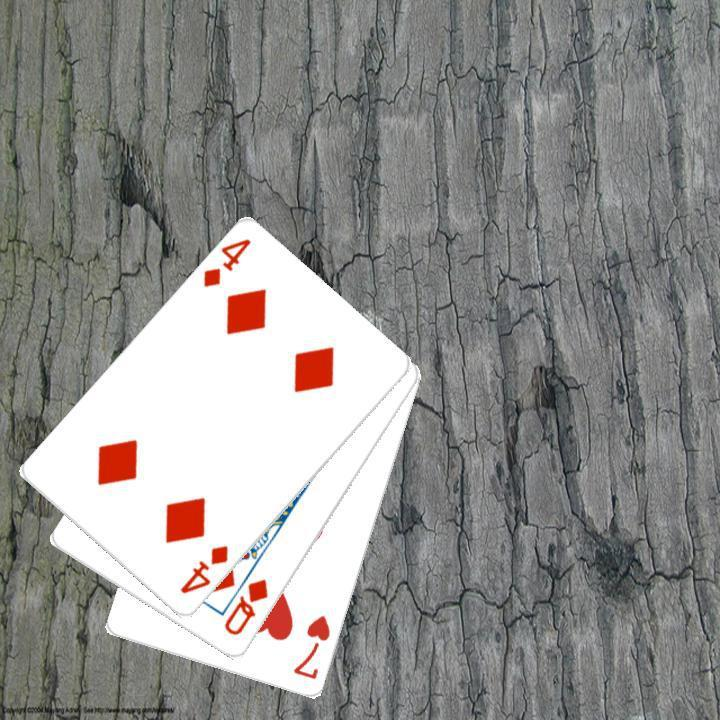4: (175, 541, 231, 597), (198, 234, 253, 290)
7: (289, 611, 333, 682)
Q: (219, 575, 271, 638)
